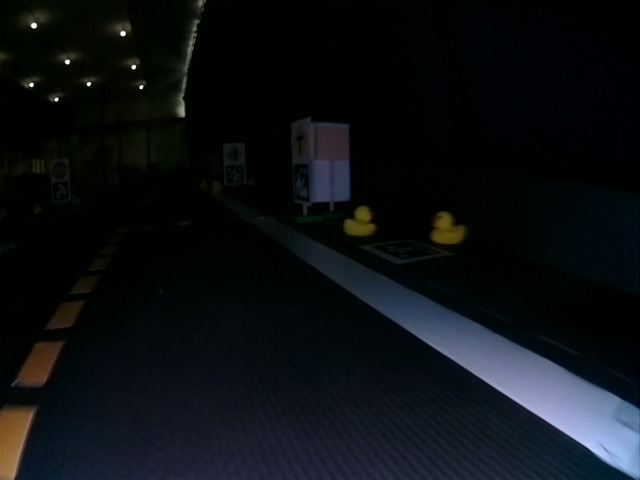Duckie: (430, 213, 466, 242), (343, 206, 375, 236), (33, 203, 43, 212), (212, 182, 221, 192)
Intersection sign: (292, 125, 309, 161), (225, 144, 244, 162)
QR code: (362, 240, 451, 263), (292, 165, 310, 204), (223, 165, 246, 185), (51, 183, 70, 202)
Stop sign: (50, 159, 69, 180)
